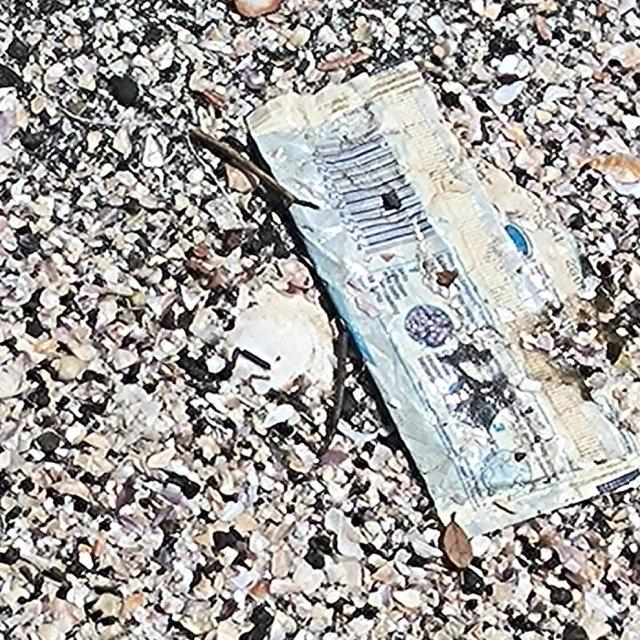plastic_waste: (241, 56, 639, 544)
